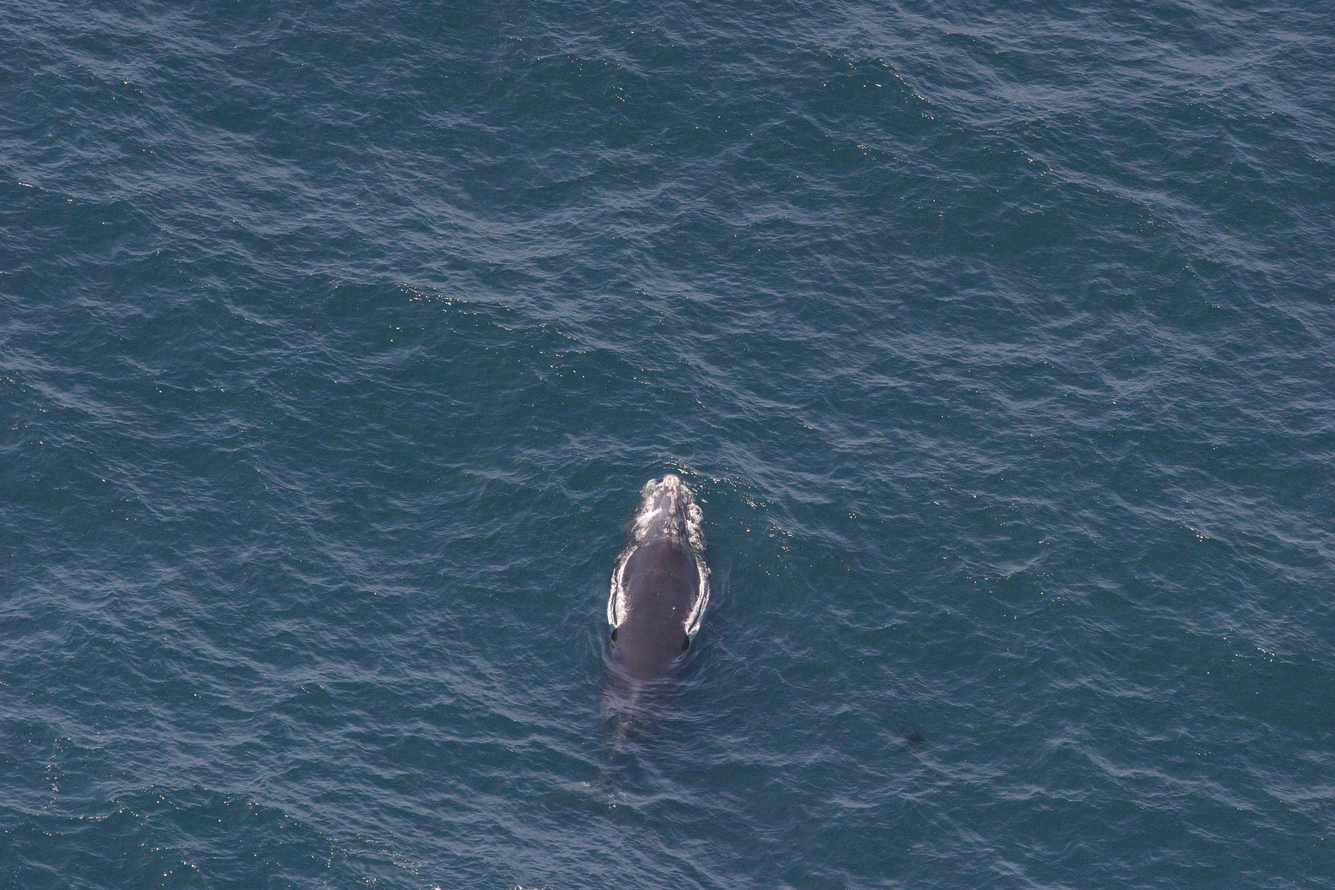whale: (522, 467, 726, 867)
